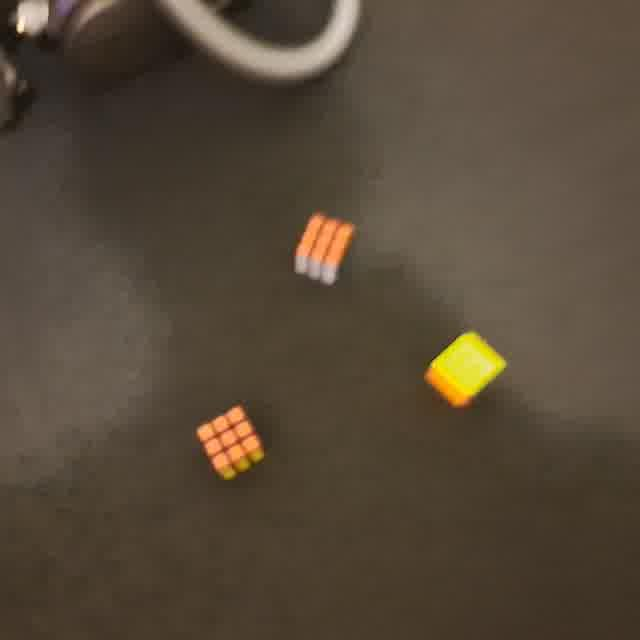rubix_cube: (422, 328, 509, 413), (193, 399, 269, 486), (291, 210, 357, 289)
